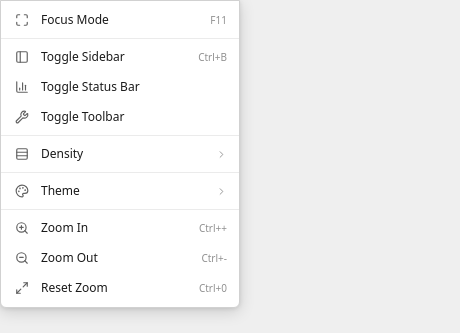
Test: ViewMenu › Theme Switcher › should show theme submenu on hover with Light, Dark, and Auto options
The image size is (460, 333).
Hover over the element showing "Theme".
mouse_move(60, 190)  # box [15, 182, 227, 199]
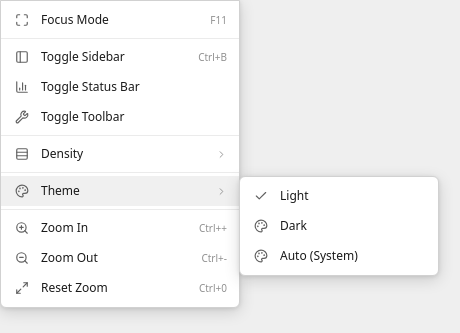
Expected: the text "Light" is shown, [280, 187, 308, 204]
Expected: the text "Dark" is shown, [280, 217, 307, 234]
Expected: the text "Auto (System)" is shown, [280, 247, 358, 264]
